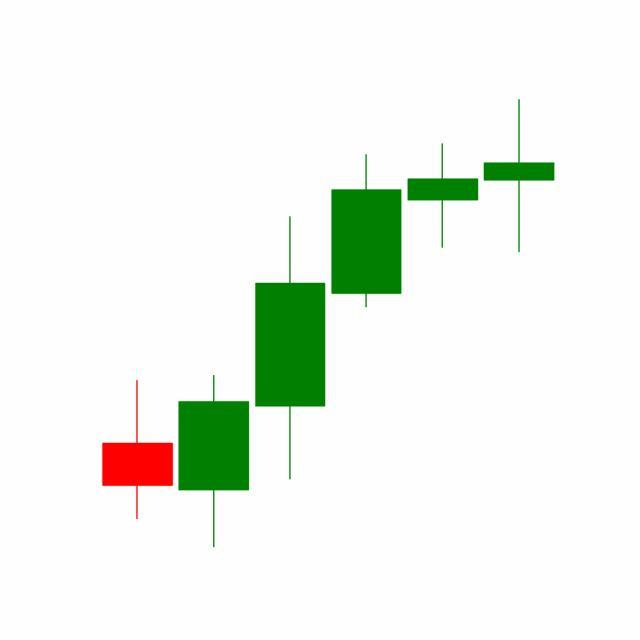Advance Block: (326, 100, 555, 312)
